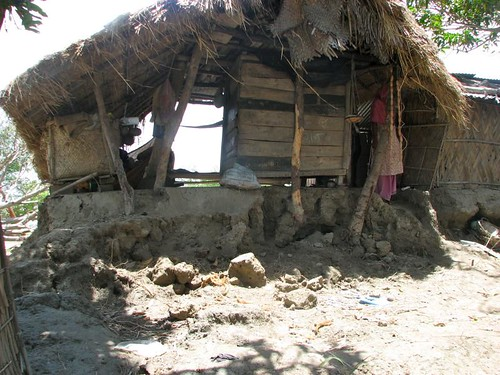building: (7, 1, 468, 257)
dirt: (2, 229, 451, 375)
